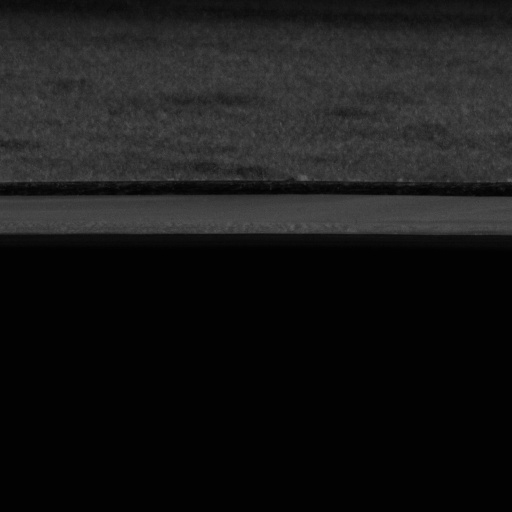kaijiao: (0, 180, 511, 238)
